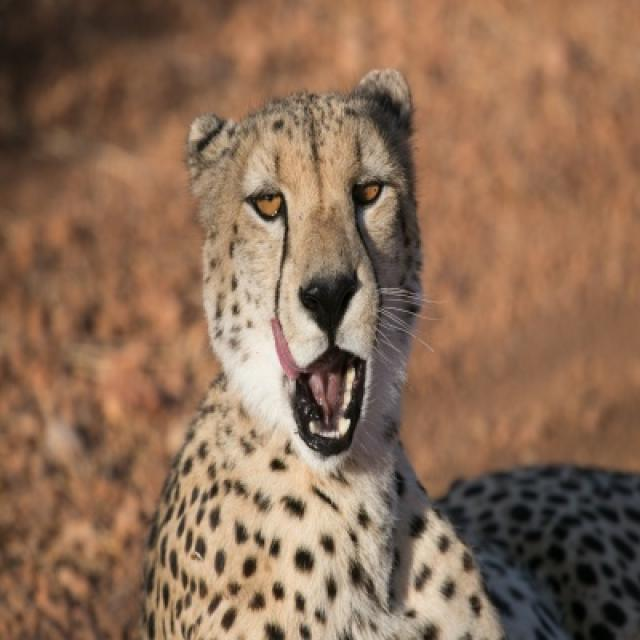Cheetah: (141, 70, 638, 638)
